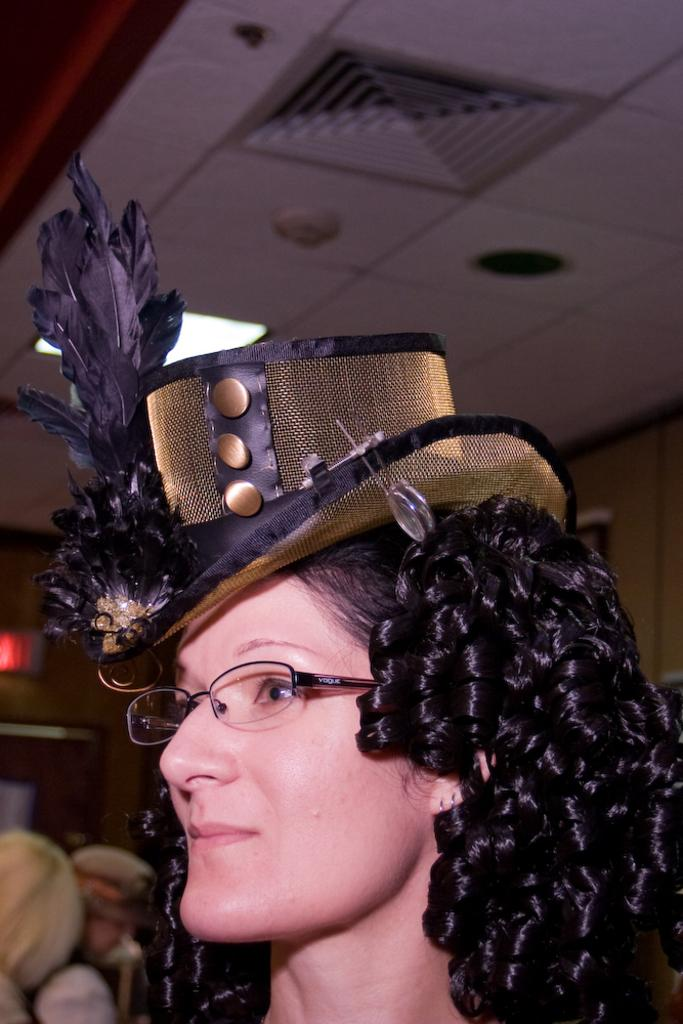Hat: (17, 148, 573, 659)
